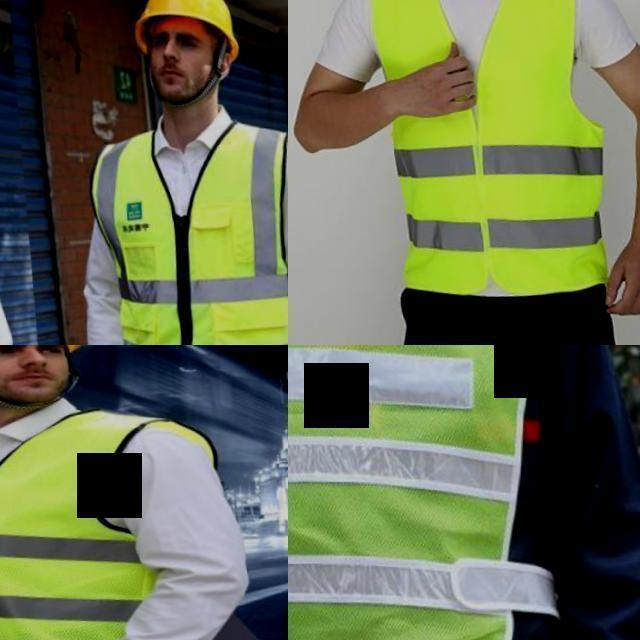vest: (359, 0, 634, 317), (288, 345, 573, 640), (97, 114, 288, 345), (0, 389, 161, 640)
